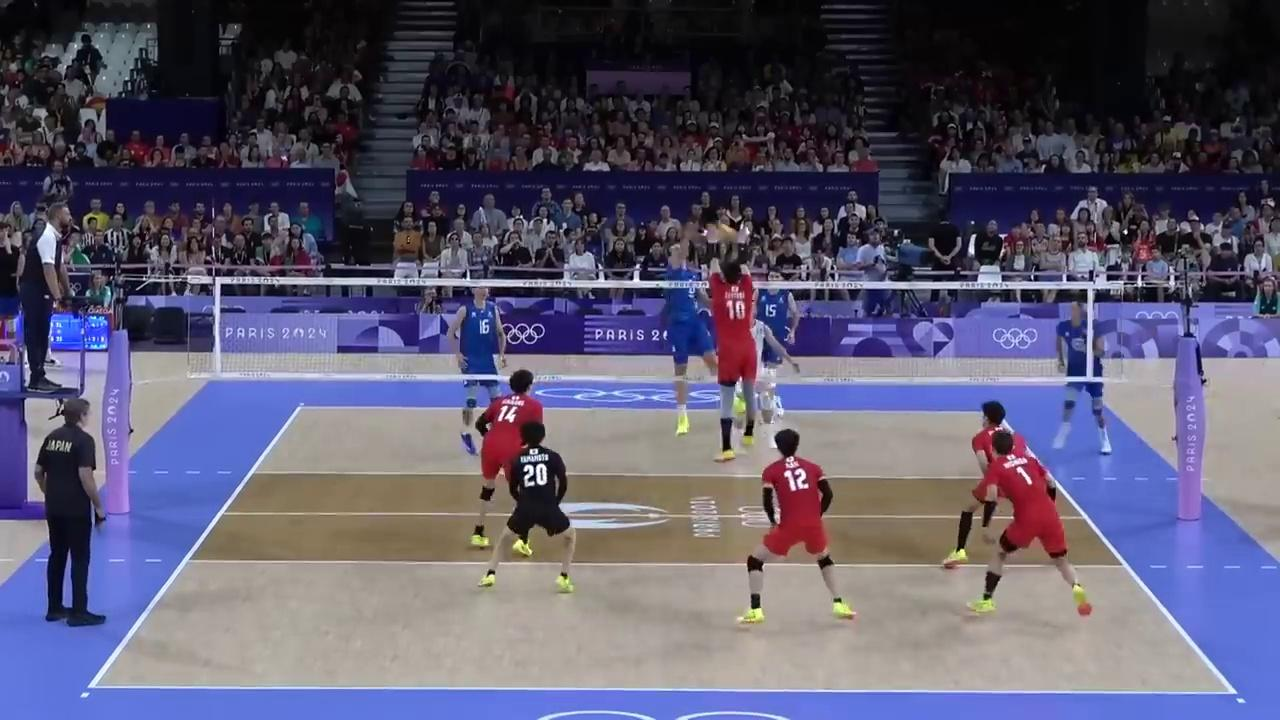ball: (717, 222, 736, 242)
